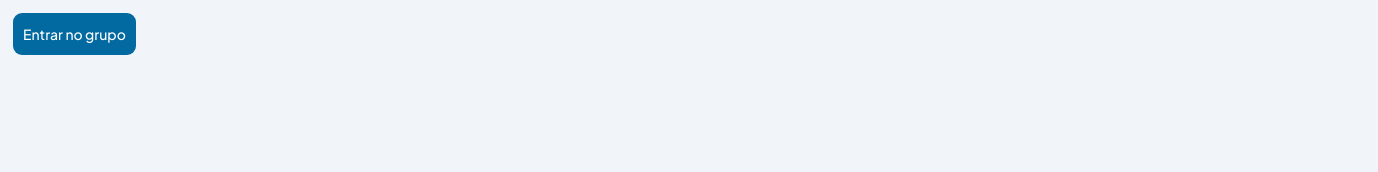
it: JoinButton › mostra Não foi possível entrar no grupo. Tente de novo. e mantém o botão num erro inesperado
The width and height of the screenshot is (1378, 172).
Later steps or results of the test are not shown.
Click the button "Entrar no grupo" at (74, 34), box [12,12,137,56]
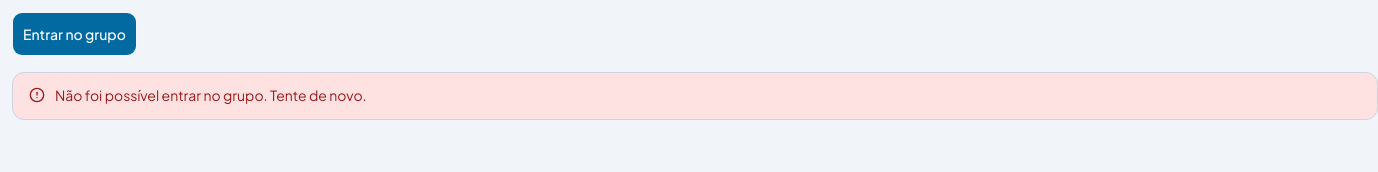
Now the message reads "Não foi possível entrar no grupo. Tente de novo.", box [55,86,367,104]
